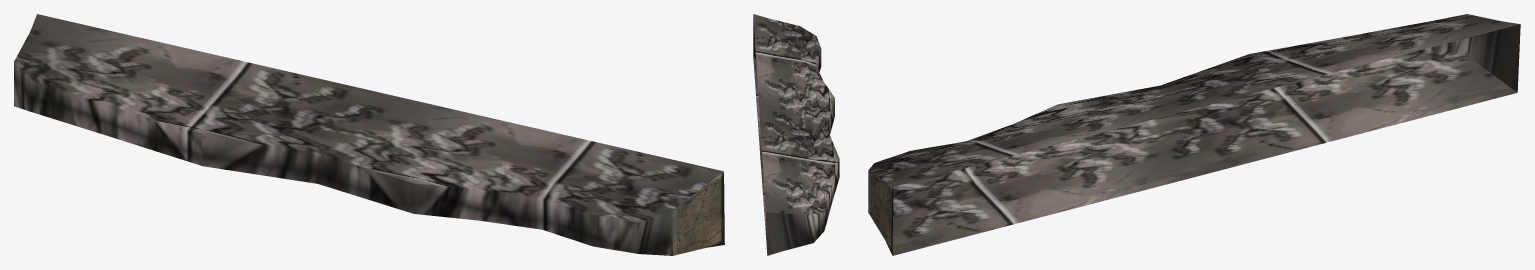
Rendered from CH09_SMAUG_PLAYSURFACE_LAIR47.fbx.
3 views of the same model, side by side, from view 1: azimuth 30°, elevation 25°; view 2: azimuth 150°, elevation 25°; view 3: azimuth 270°, elevation 25° (orthographic). The views are drawn at different scales.
Visible parts, largest first — view 1: CH09_SMAUG_PLAYSURFACE_LAIR47; view 2: CH09_SMAUG_PLAYSURFACE_LAIR47; view 3: CH09_SMAUG_PLAYSURFACE_LAIR47.
Boxes of the visible parts, x1=… form: CH09_SMAUG_PLAYSURFACE_LAIR47: x1=14, y1=14, x2=724, y2=255; CH09_SMAUG_PLAYSURFACE_LAIR47: x1=753, y1=14, x2=839, y2=255; CH09_SMAUG_PLAYSURFACE_LAIR47: x1=868, y1=14, x2=1520, y2=255.
Bounding box in the file's own units: 35408 × 6106 × 52326.
Materials: 2 (2 with a texture image).
